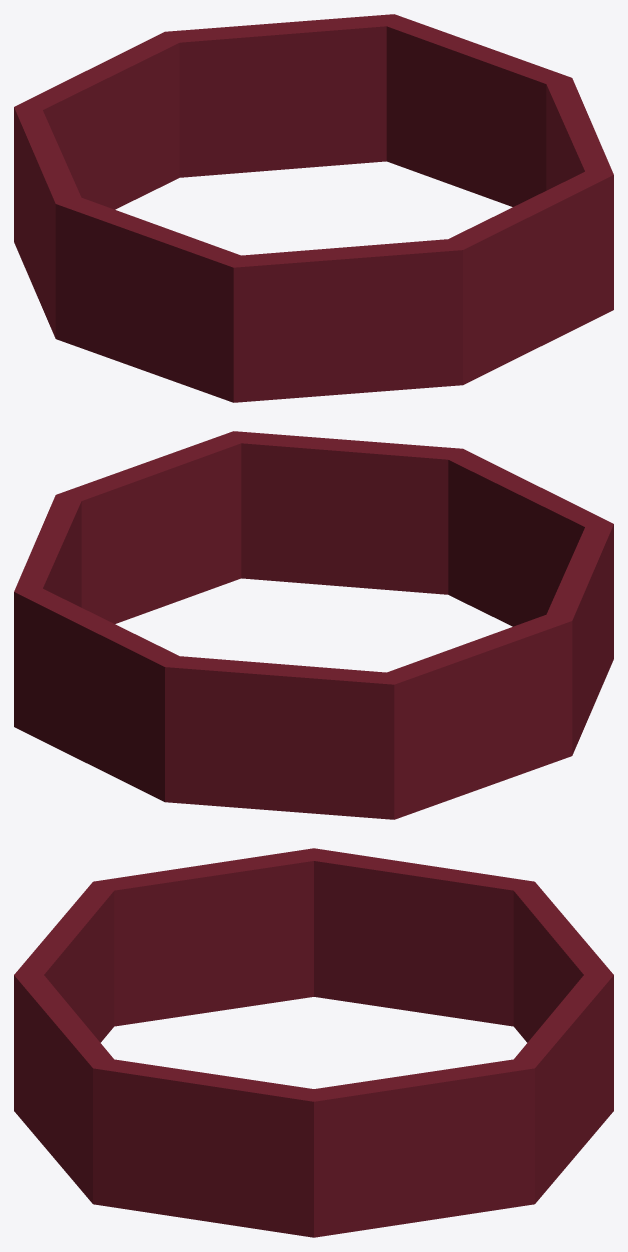
Rendered from tower_middle_001_msh.fbx.
3 views of the same model, one above another, from view 1: azimuth 30°, elevation 25°; view 2: azimuth 150°, elevation 25°; view 3: azimuth 270°, elevation 25° (orthographic).
Visible parts, largest first — view 1: tower_middle_001_msh; view 2: tower_middle_001_msh; view 3: tower_middle_001_msh.
Boxes of the visible parts, x1,y1,x2,y2 form: tower_middle_001_msh: [14, 14, 613, 402]; tower_middle_001_msh: [14, 431, 613, 819]; tower_middle_001_msh: [14, 848, 613, 1237].
Size of the model in its own units: 400 by 100 by 400.
